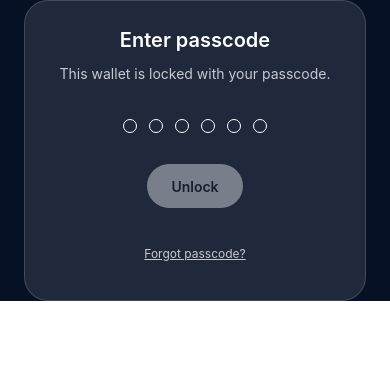
lock screen (unlock flow) › a storage error shows the generic error, not a detail
Replace the text in the password field named "Passcode" with "395784": x=195, y=164 left=123, top=119, right=267, bottom=208
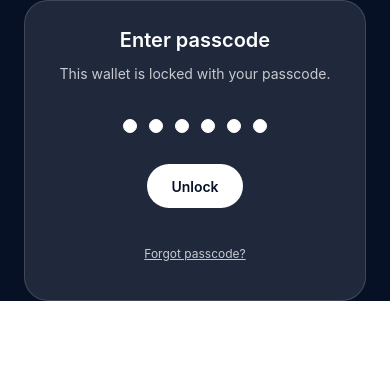
Click the button "Unlock": x=195, y=186 left=147, top=164, right=243, bottom=208
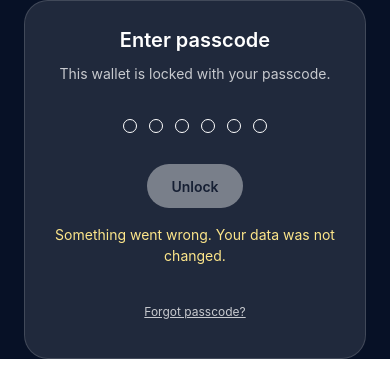
Expected: the message reads "Something went wrong. Your data was not changed.", left=55, top=226, right=335, bottom=264
